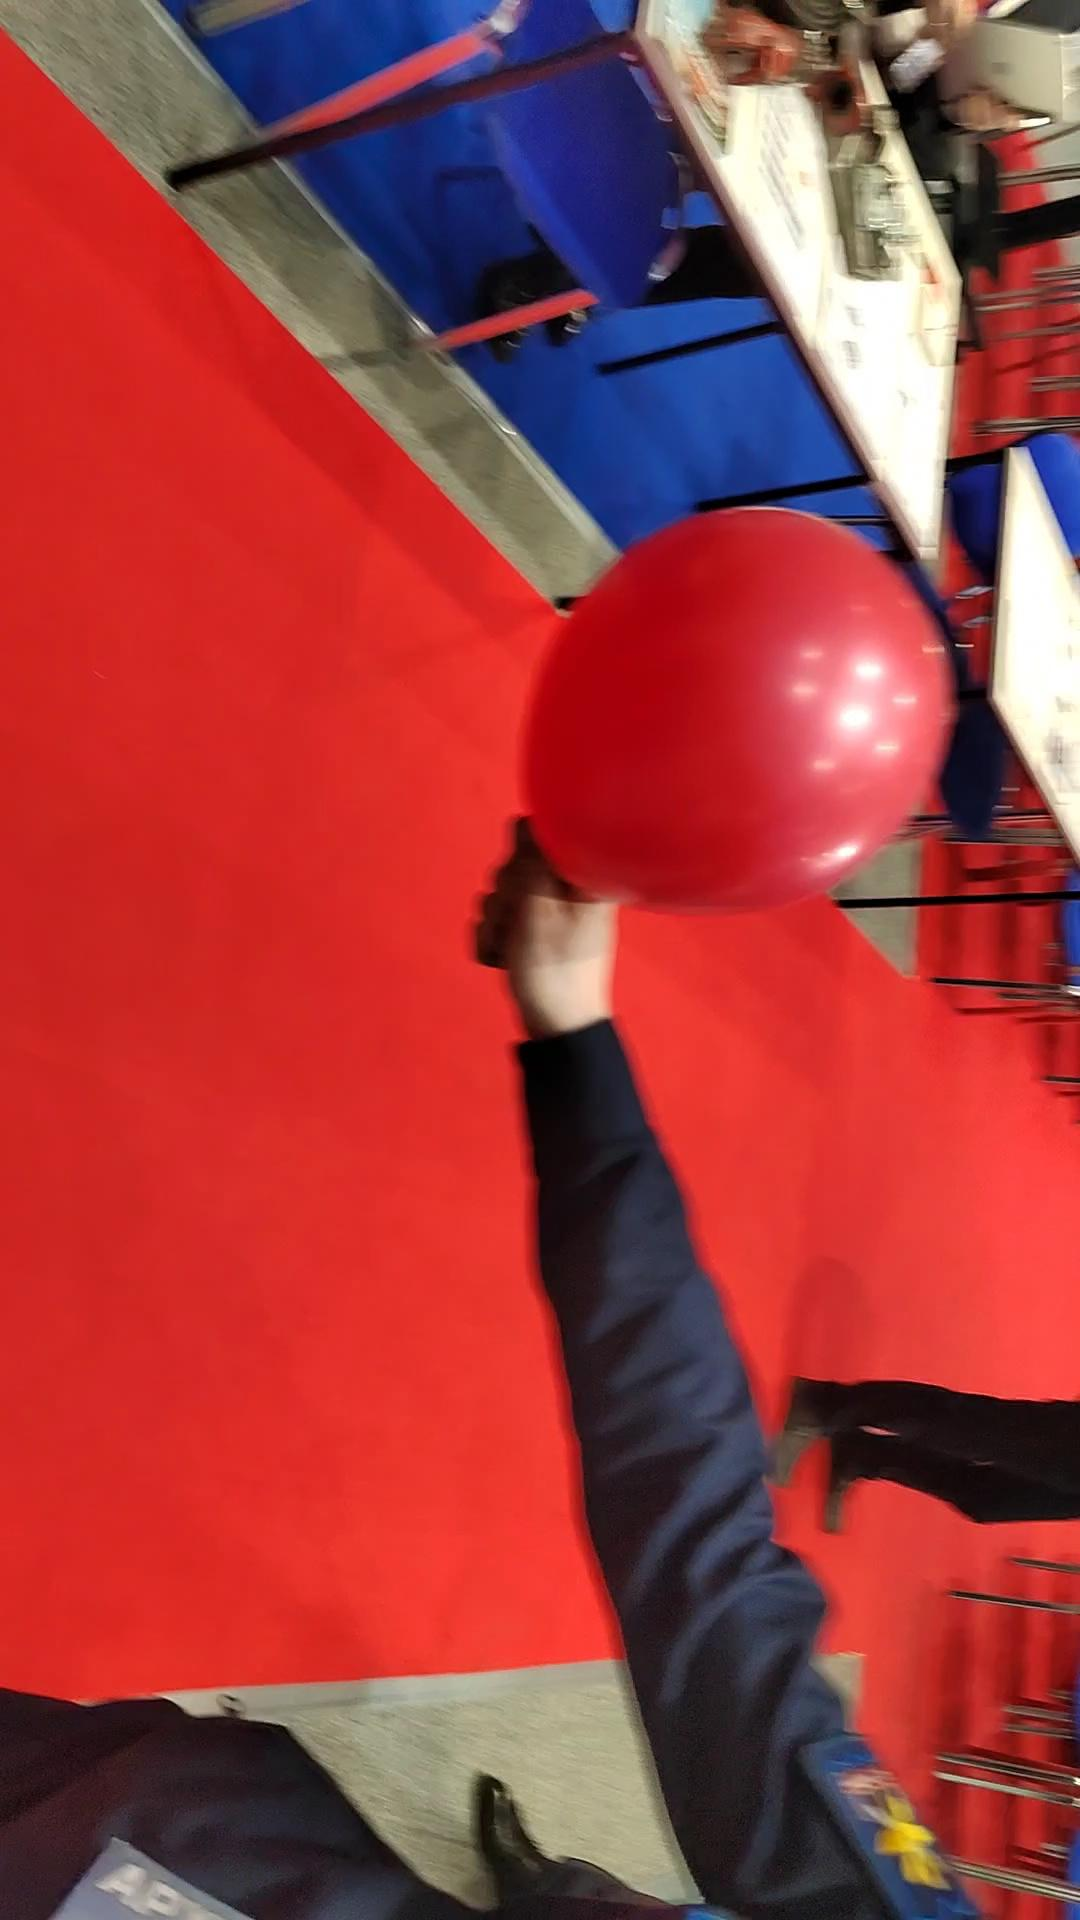red: (510, 497, 944, 920)
